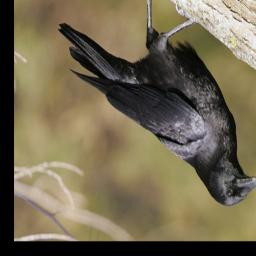Crow: (58, 0, 256, 208)
